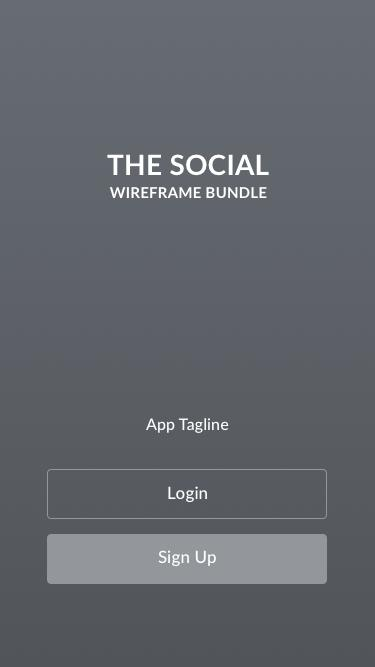Text: (107, 154, 271, 177), (109, 187, 268, 200), (145, 417, 230, 434)
TextButton: (47, 533, 328, 585), (47, 469, 328, 520)
